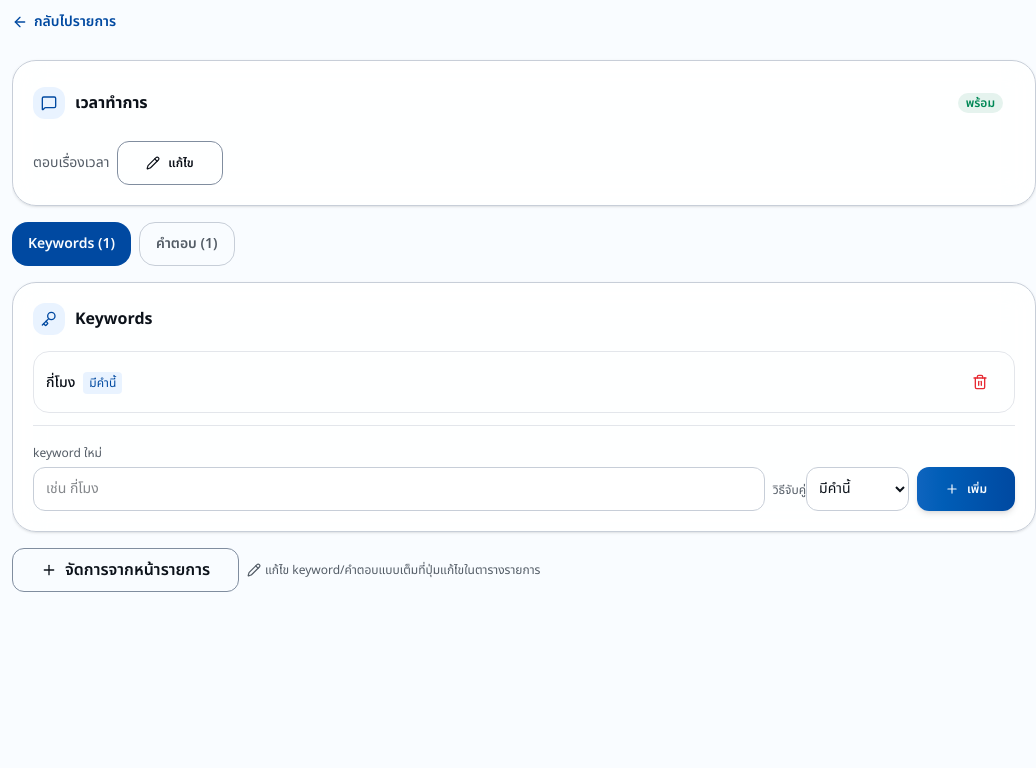
Scenario: IntentDetailClient › แสดงชื่อ + readiness + tab keywords/responses
Expected: the text "เวลาทำการ" is shown, [75,91,148,115]
Expected: the text "ตอบเรื่องเวลา" is shown, [33,153,109,173]
Step 1. Click the tab "คำตอบ (1)" → (187, 244), box [139,222,234,266]
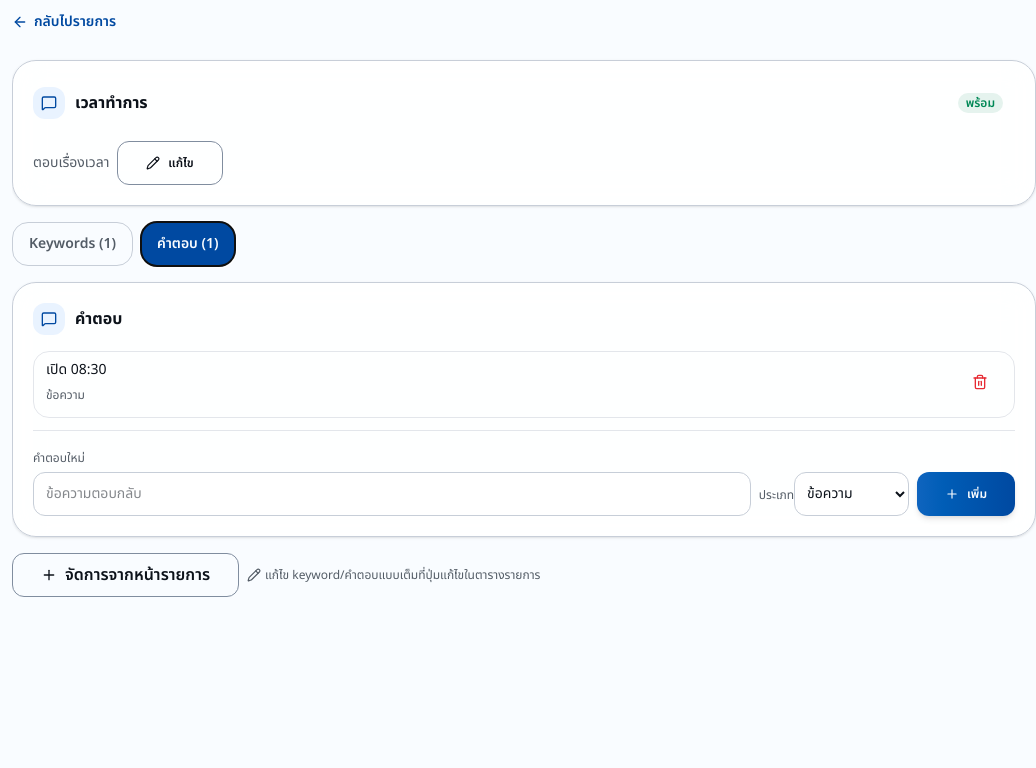
Now the text "เปิด 08:30" is shown, box [46,359,106,380]
